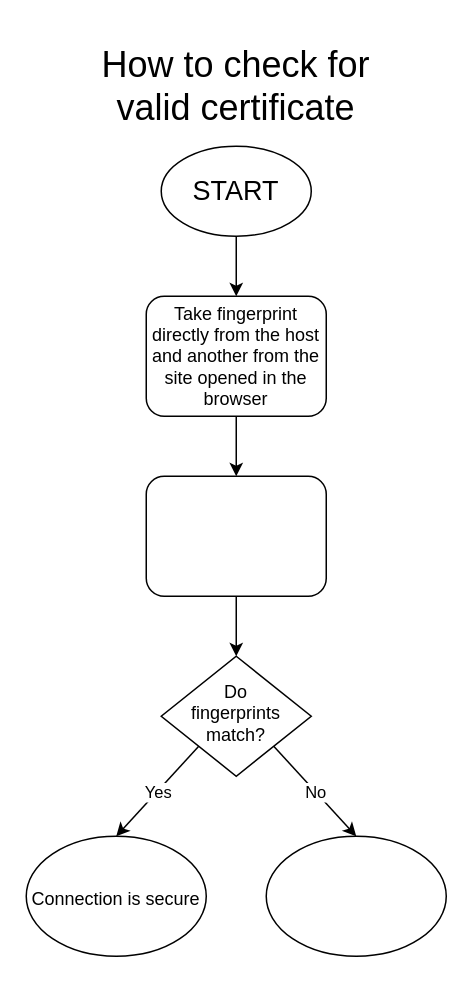
This 473x983 diagram has some shape labels left out. The box of each missing label's shape, as (x1, y1, x2, y2) in pixels:
Connection is being intercepted: (265, 835, 446, 956)
Translate each fingerprint into all caps and remove spaces and semicolons: (145, 475, 326, 596)
